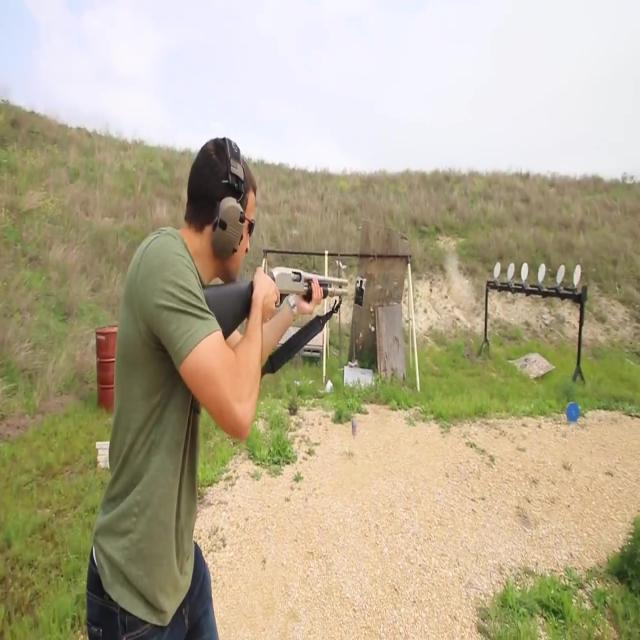Weapon: (173, 257, 376, 365)
